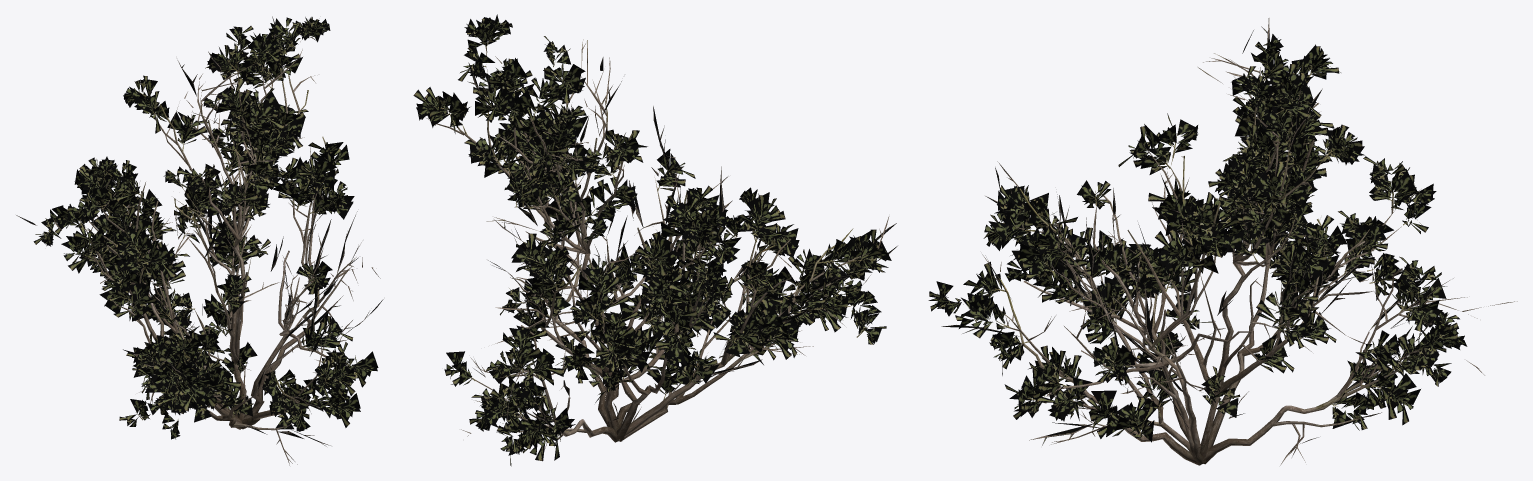
File: searsia_burchellii.glb
3 views of the same model, side by side, from view 1: azimuth 30°, elevation 25°; view 2: azimuth 150°, elevation 25°; view 3: azimuth 270°, elevation 25° (orthographic). The views are drawn at different scales.
Parts seen in each view (by area): view 1: searsia_burchellii_small_LOD0; view 2: searsia_burchellii_small_LOD0; view 3: searsia_burchellii_small_LOD0.
Boxes of the visible parts, left/top/right/bottom form: searsia_burchellii_small_LOD0: left=16, top=16, right=383, bottom=465; searsia_burchellii_small_LOD0: left=413, top=14, right=897, bottom=466; searsia_burchellii_small_LOD0: left=928, top=18, right=1517, bottom=465.
Size of the model in its own units: 1.64 by 1.88 by 2.27.
2 materials, 2 textured.
